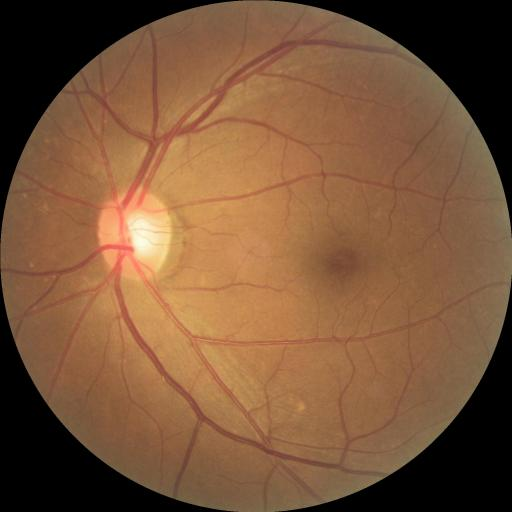Optic Cup: (126, 214, 158, 256)
Optic Disc: (96, 186, 172, 281)
